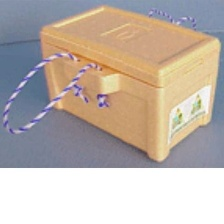foam_box: (0, 0, 224, 165)
